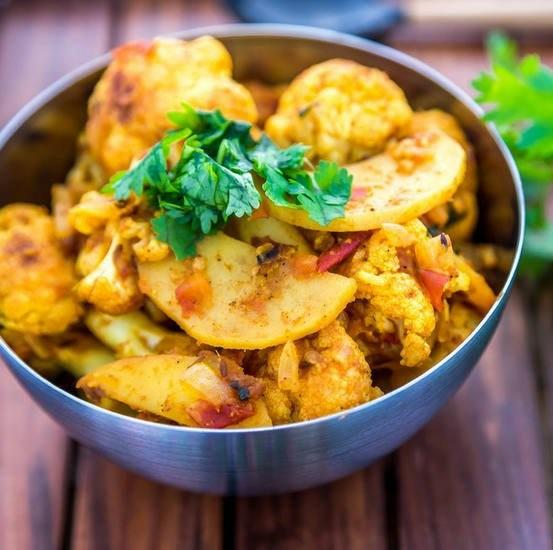AlooGobi: (0, 35, 496, 429)
